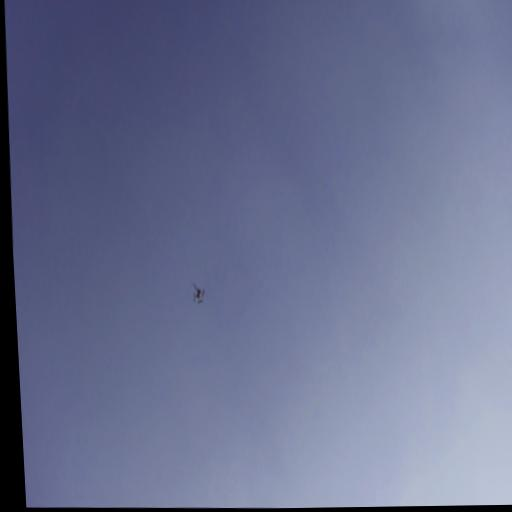drones: (191, 281, 206, 305)
